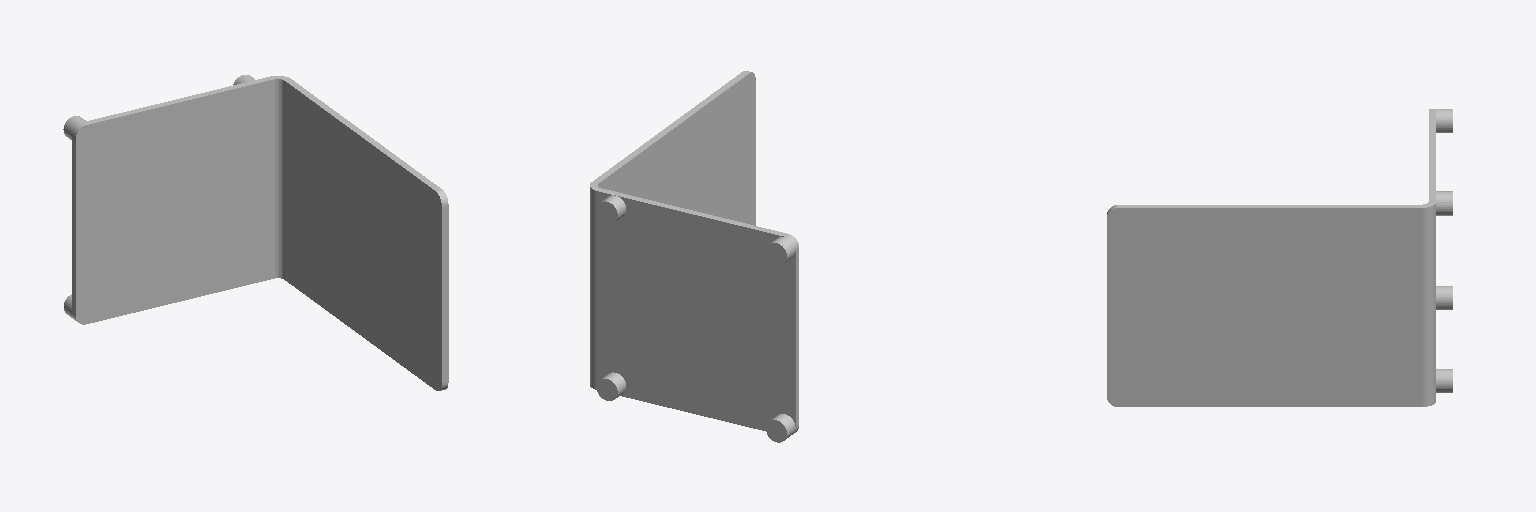
File: bracket_vertical.obj
3 views of the same model, side by side, from view 1: azimuth 30°, elevation 25°; view 2: azimuth 150°, elevation 25°; view 3: azimuth 270°, elevation 25° (orthographic).
Visible parts, largest first — view 1: obj1; view 2: obj1; view 3: obj1.
Boxes of the visible parts, x1,y1,x2,y2 form: obj1: [63, 75, 448, 390]; obj1: [590, 71, 798, 442]; obj1: [1107, 109, 1452, 406].
Size of the model in its own units: 0.1 by 0.09 by 0.1419.